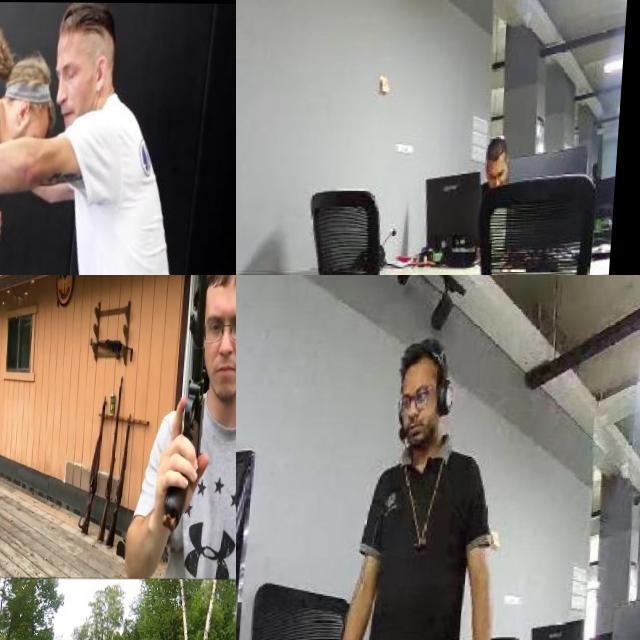-: (0, 138, 46, 239)
gun-knife-thesis - v11 Yolov5 augmented: (158, 275, 226, 531), (77, 392, 108, 538), (99, 372, 125, 545), (106, 412, 137, 545), (86, 329, 138, 358), (0, 385, 20, 460)
